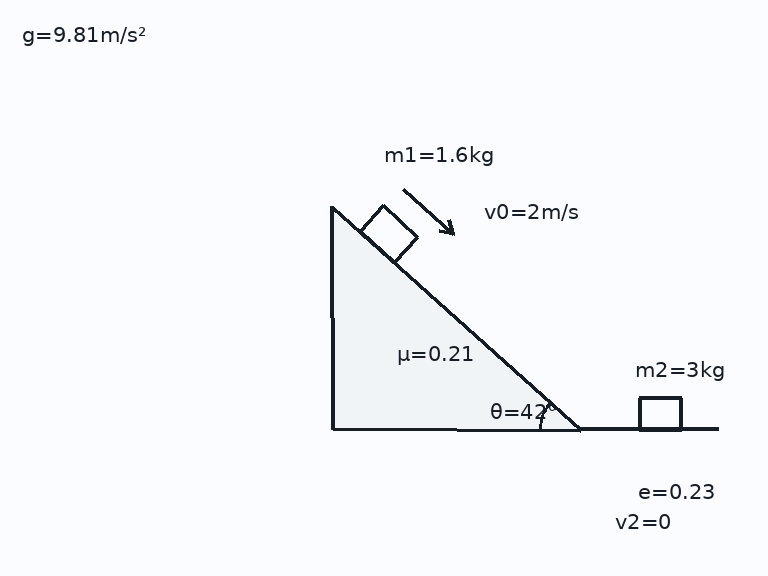block: (358, 204, 419, 264), (637, 396, 683, 431)
ramp: (331, 204, 582, 431)
